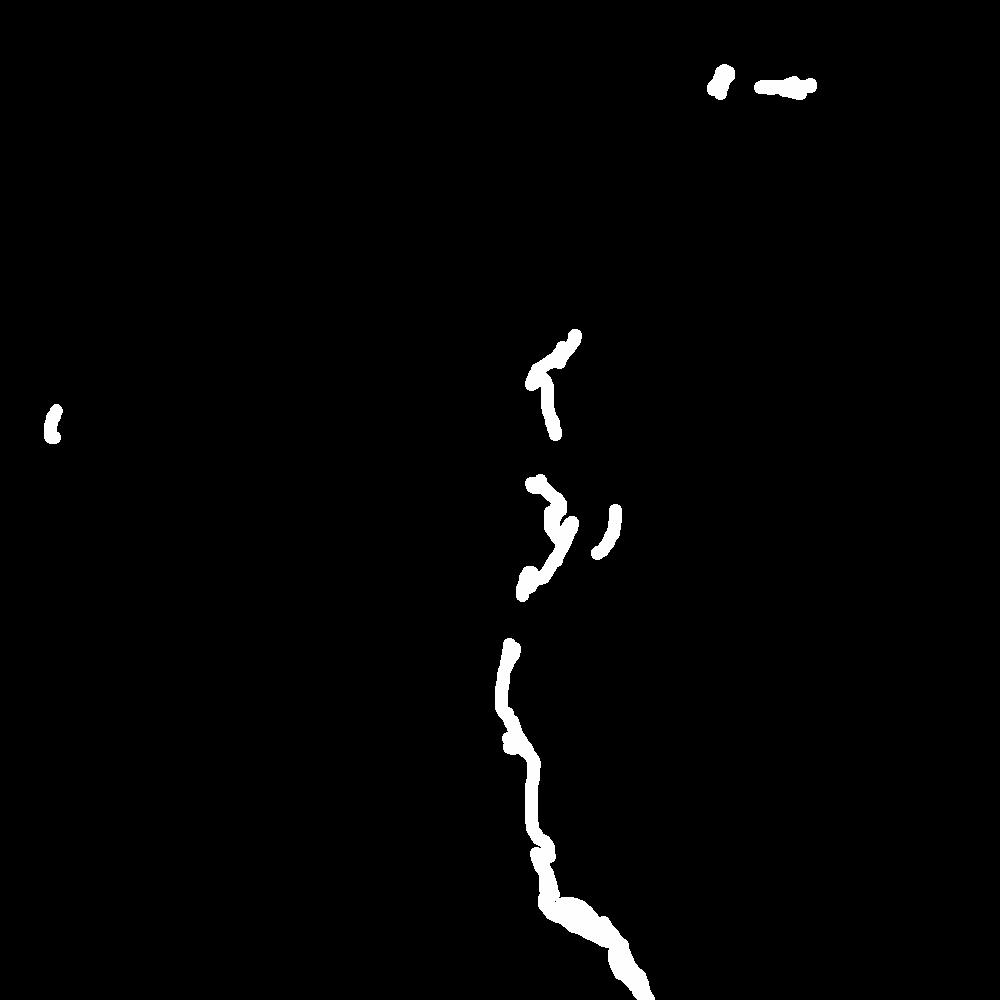illegal: (489, 638, 667, 1000), (396, 280, 574, 449), (513, 463, 633, 603), (698, 64, 810, 118)
